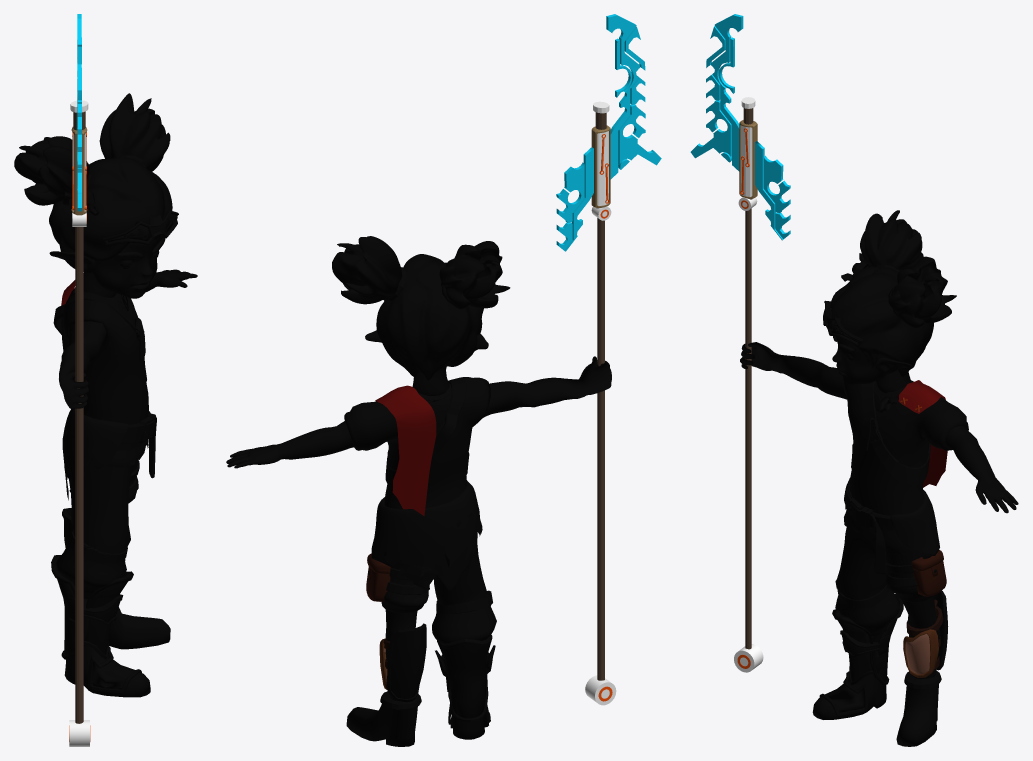
The model's file is Char_Pose.fbx.
The picture shows the model from 3 angles, left to right: view 1: azimuth 30°, elevation 25°; view 2: azimuth 150°, elevation 25°; view 3: azimuth 270°, elevation 25°; orthographic projection. The views are drawn at different scales.
Visible parts, largest first — view 1: Belt_2_pCube7, pCylinder27; view 2: Belt_2_pCube7, pCylinder27; view 3: Belt_2_pCube7, pCylinder27.
Boxes of the visible parts, x1,y1,x2,y2 form: Belt_2_pCube7: [14, 93, 197, 697]; pCylinder27: [69, 14, 90, 746]; Belt_2_pCube7: [226, 236, 611, 746]; pCylinder27: [556, 14, 661, 705]; Belt_2_pCube7: [740, 210, 1018, 746]; pCylinder27: [690, 14, 790, 672].
Bounding box in the file's own units: 77.6 × 188 × 85.32.
